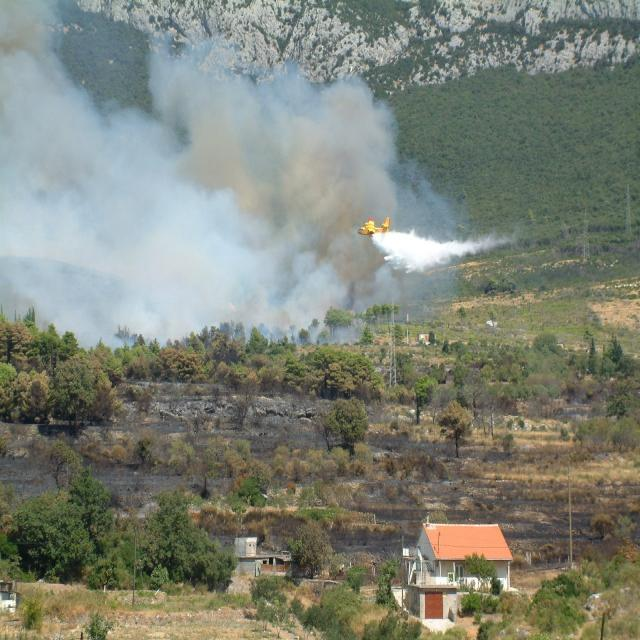Smoke: (0, 1, 512, 352)
